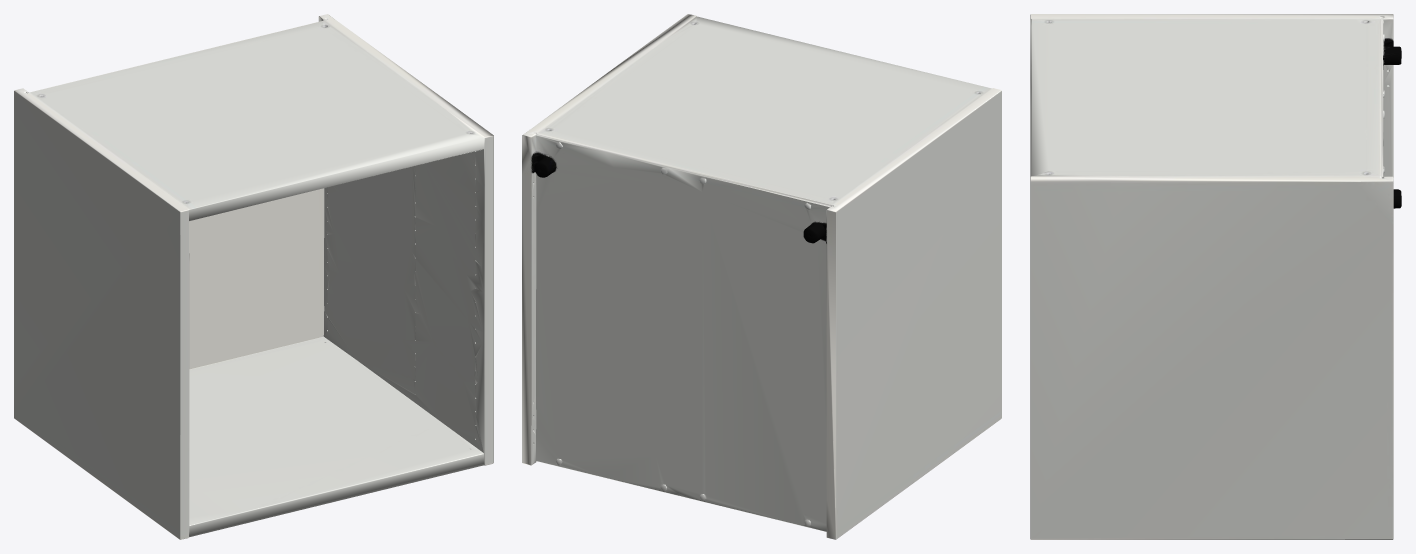
File: platsa_obudowa_10330972.glb
3 views of the same model, side by side, from view 1: azimuth 30°, elevation 25°; view 2: azimuth 150°, elevation 25°; view 3: azimuth 270°, elevation 25° (orthographic). The views are drawn at different scales.
Visible parts, largest first — view 1: platsa_obudowa_10330972; view 2: platsa_obudowa_10330972; view 3: platsa_obudowa_10330972.
Part boxes in pixels (left/top/right/bottom): platsa_obudowa_10330972: left=14, top=14, right=493, bottom=539; platsa_obudowa_10330972: left=522, top=14, right=1001, bottom=539; platsa_obudowa_10330972: left=1030, top=14, right=1401, bottom=539.
Size of the model in its own units: 0.6001 by 0.6006 by 0.5624.
Materials: 1 (1 with a texture image).
